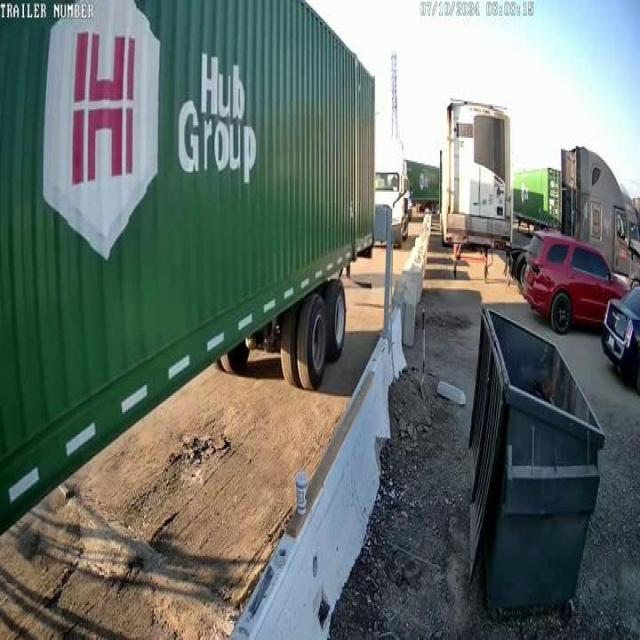TRUCK_CONTAINER: (0, 0, 376, 533)
